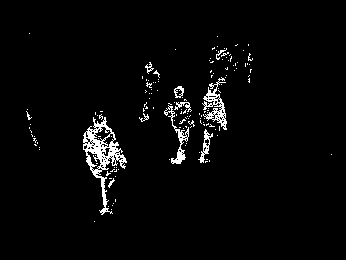person: (82, 108, 126, 214), (197, 83, 227, 165), (165, 86, 195, 166), (138, 61, 161, 123)
